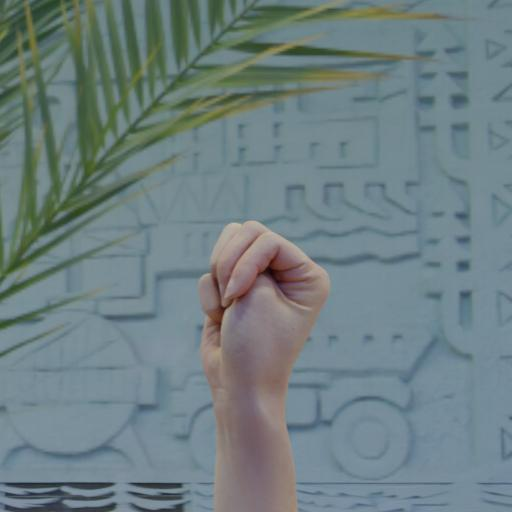M: (174, 198, 354, 448)
